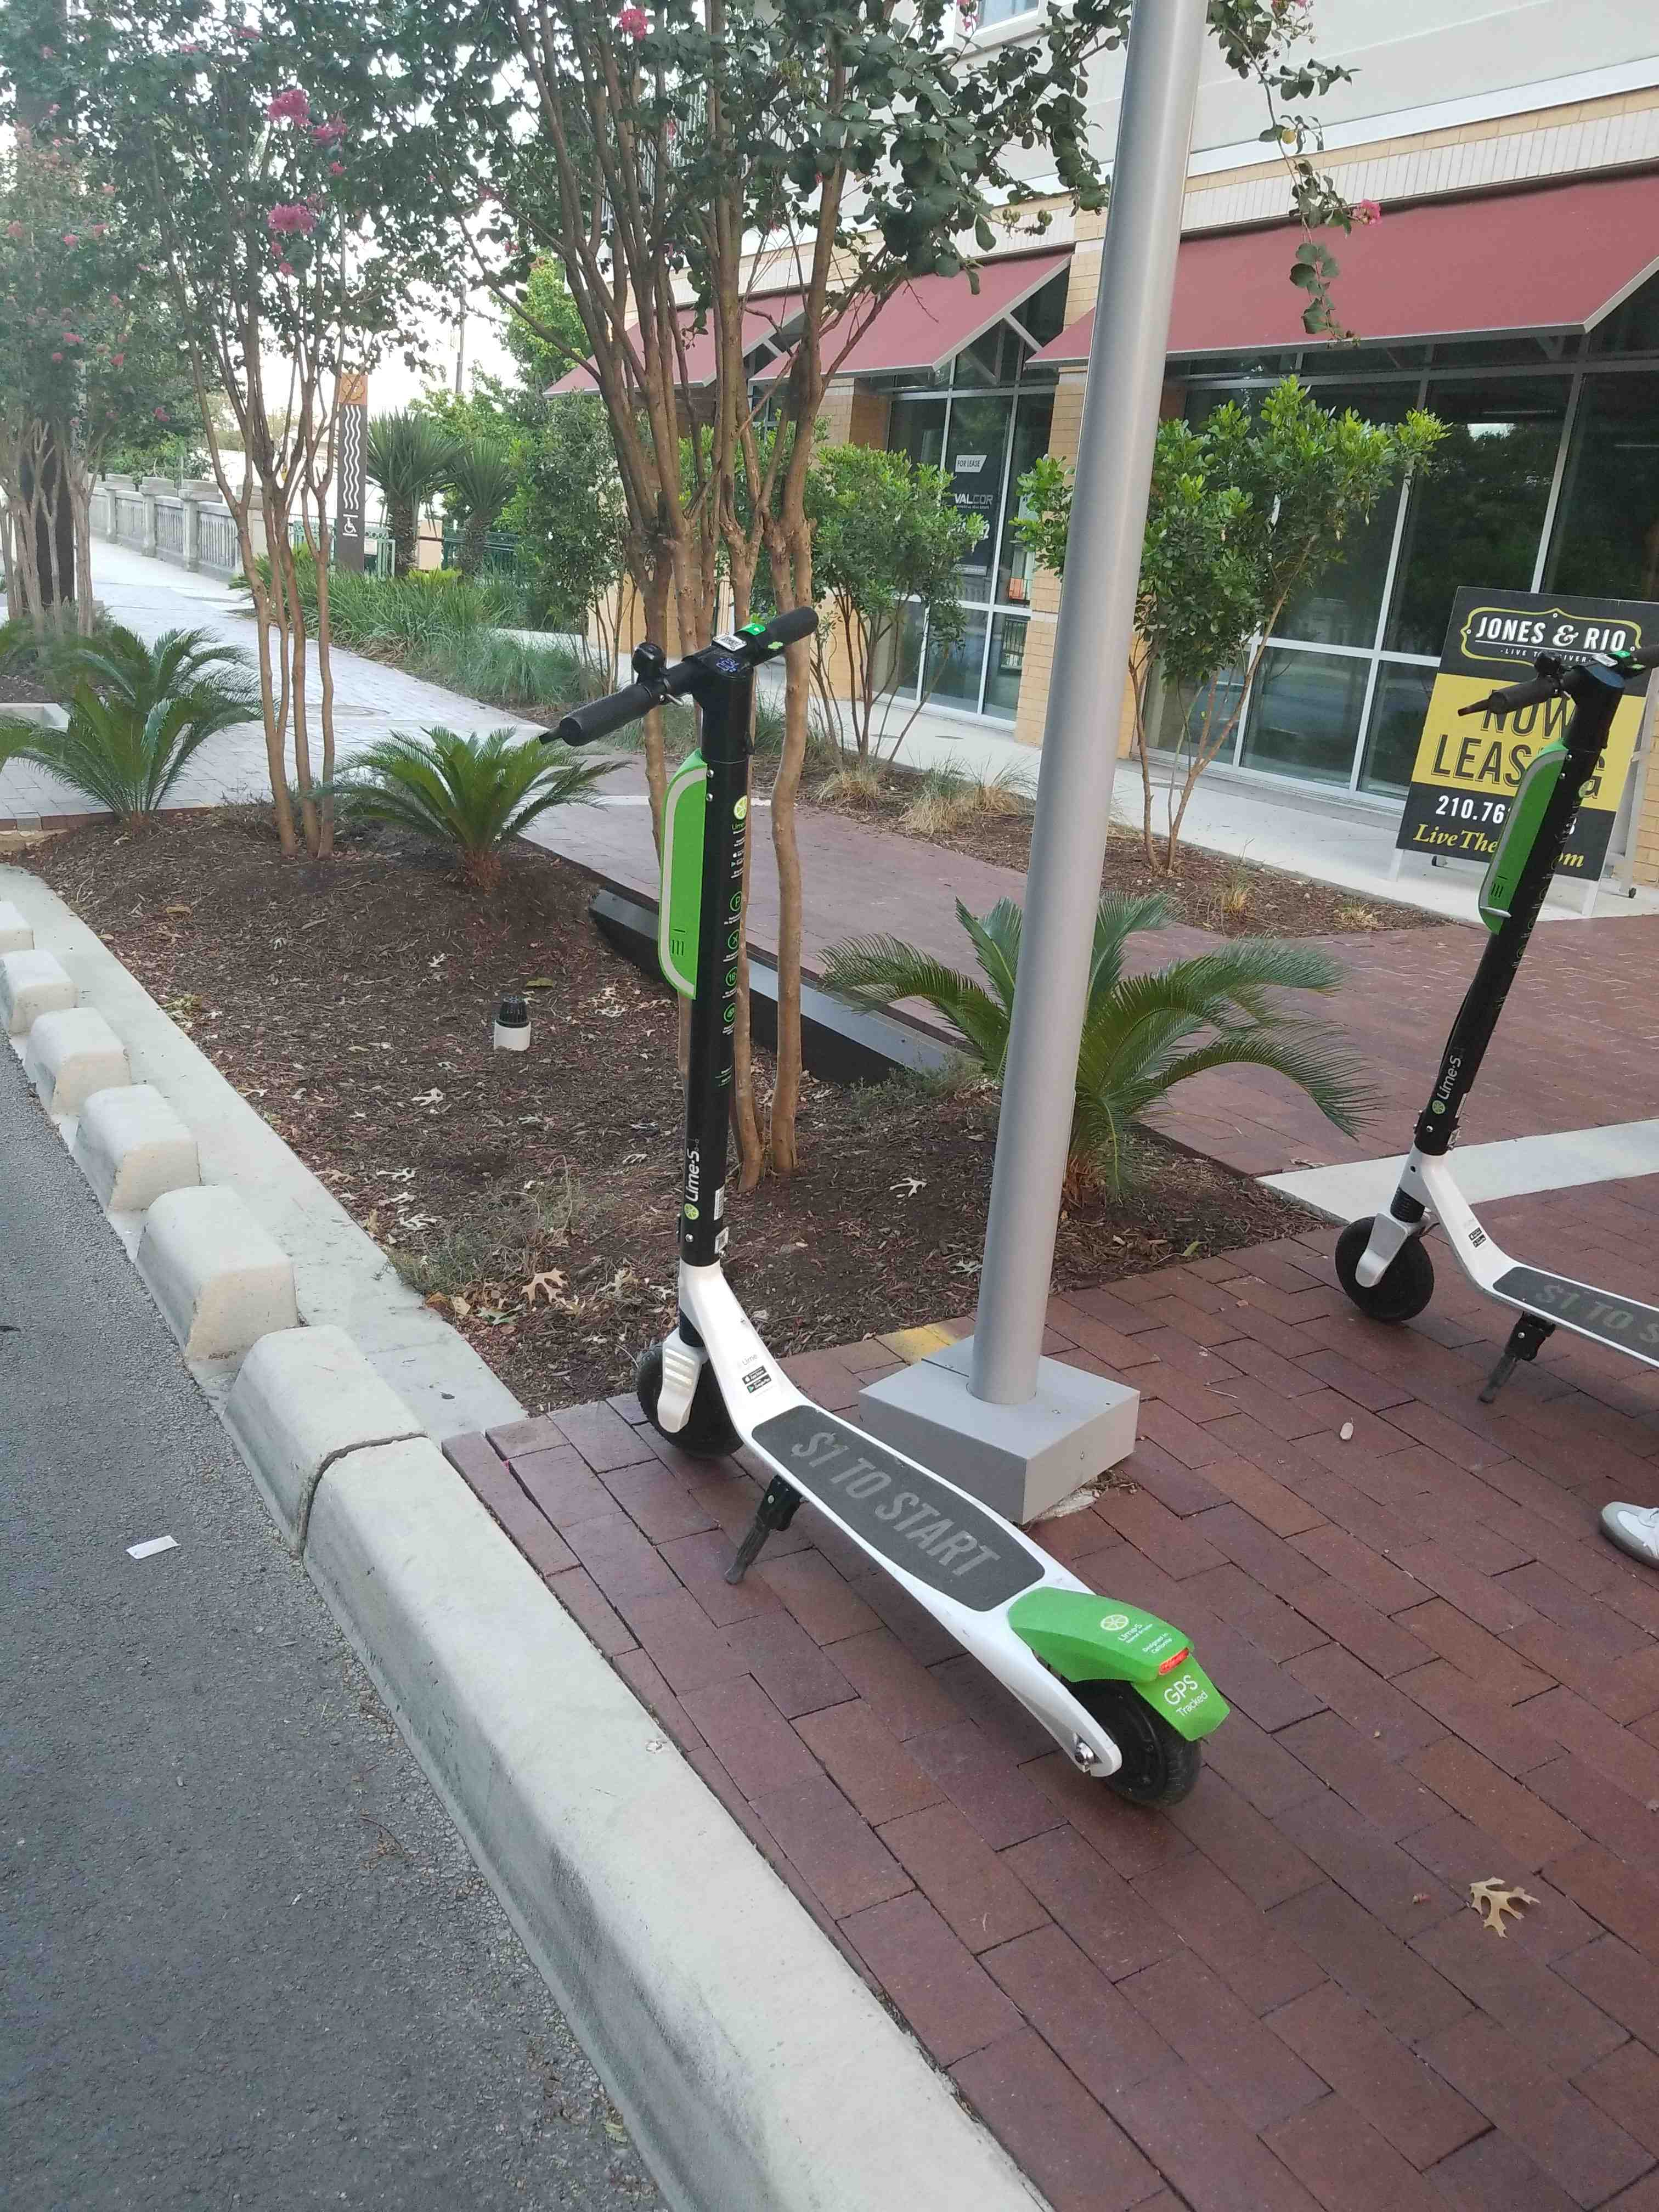scooter: (542, 603, 1249, 1829), (1331, 613, 1659, 1416)
